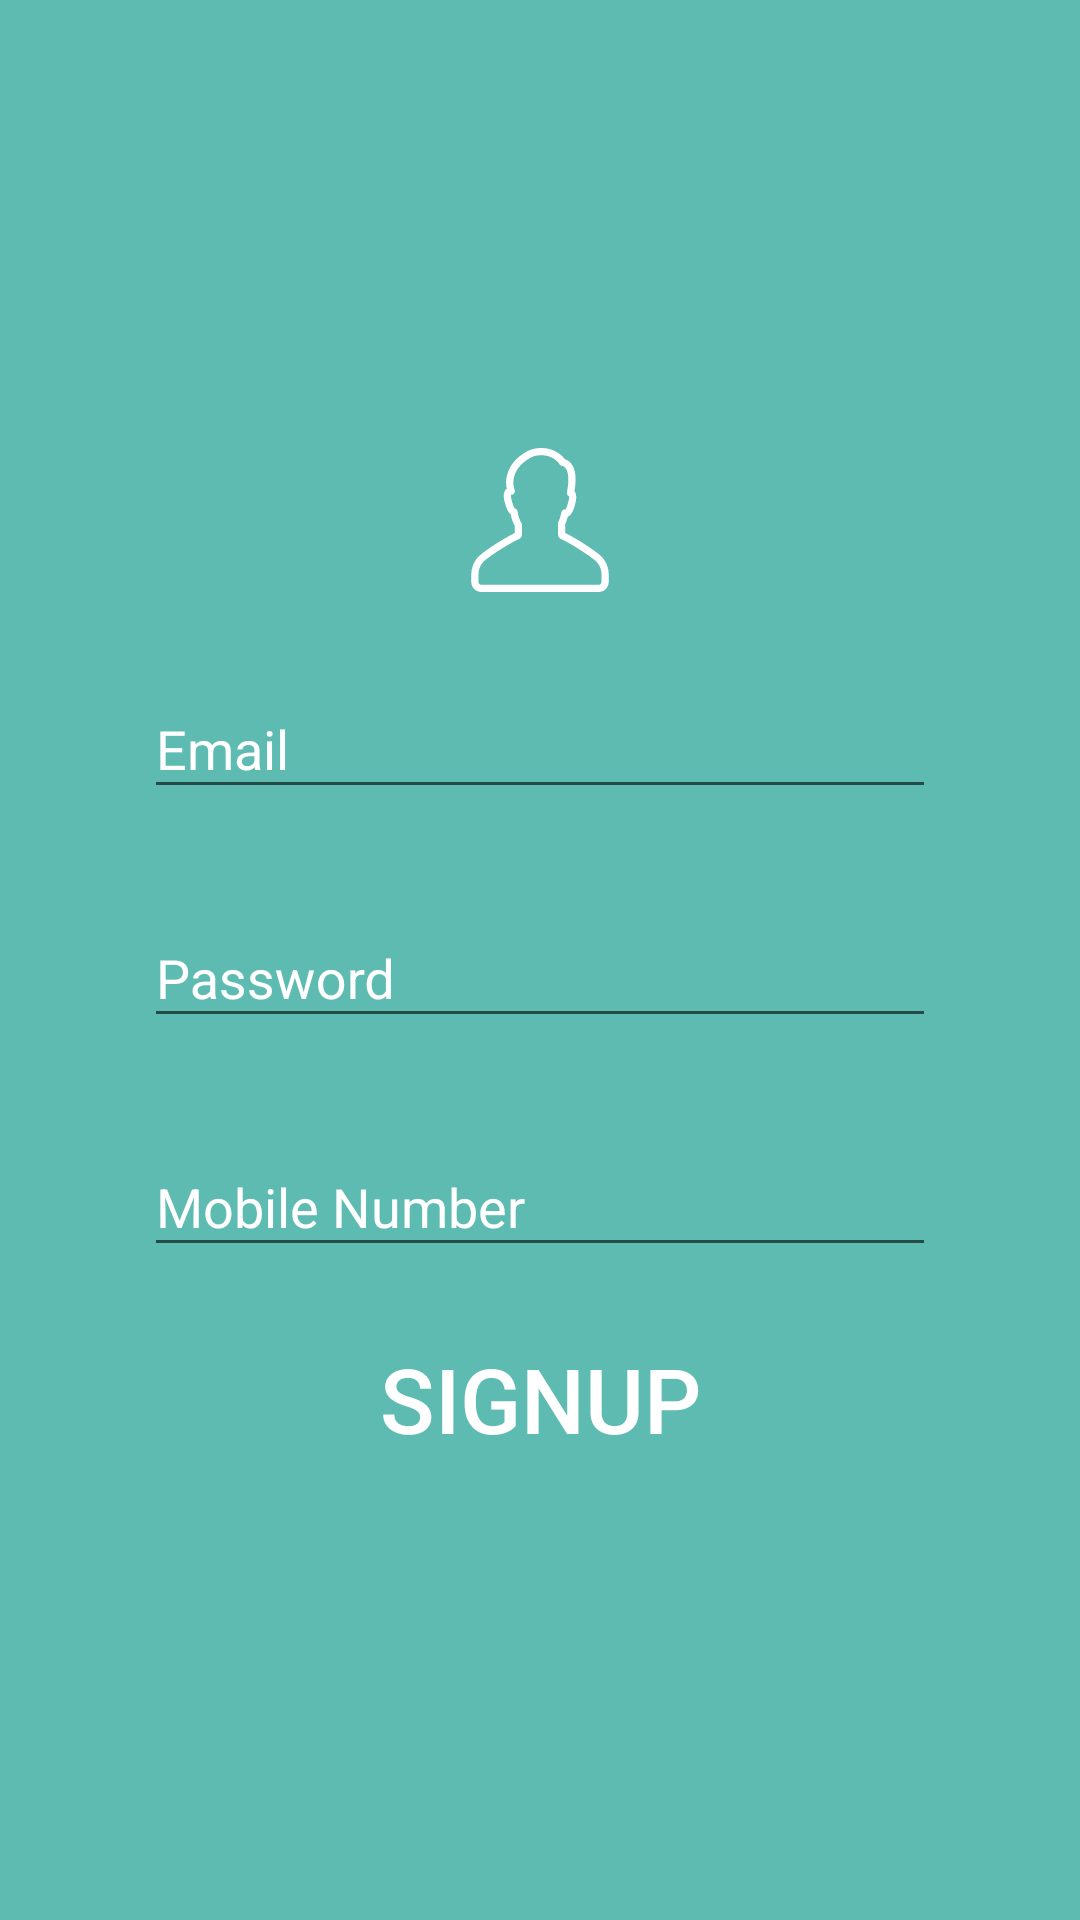

Named icons in this screenshot (1080px×1920px) and their bounding boxes, (x1, y1, x2, y2):
user: (471, 448, 609, 592)
